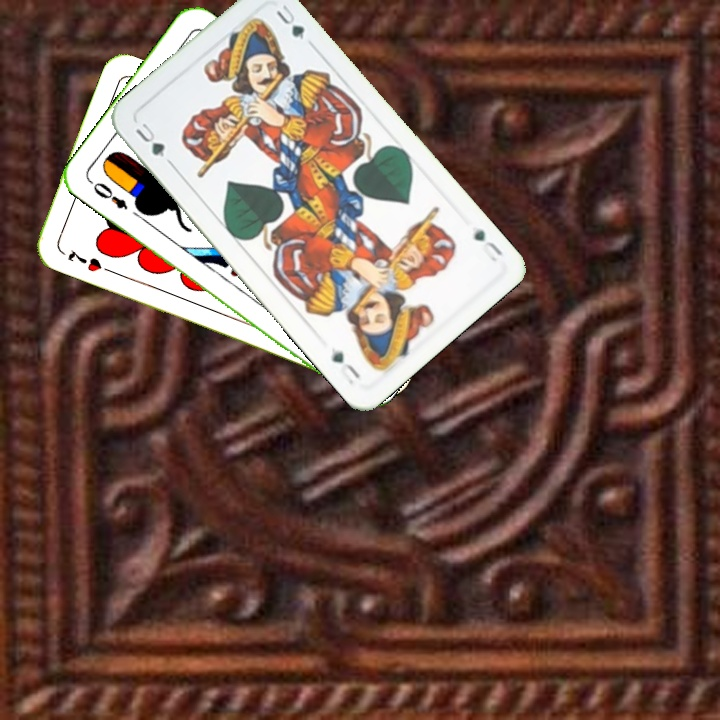EO: (85, 176, 131, 212)
GU: (131, 118, 168, 160), (469, 223, 505, 265)
H7: (63, 245, 105, 275)
